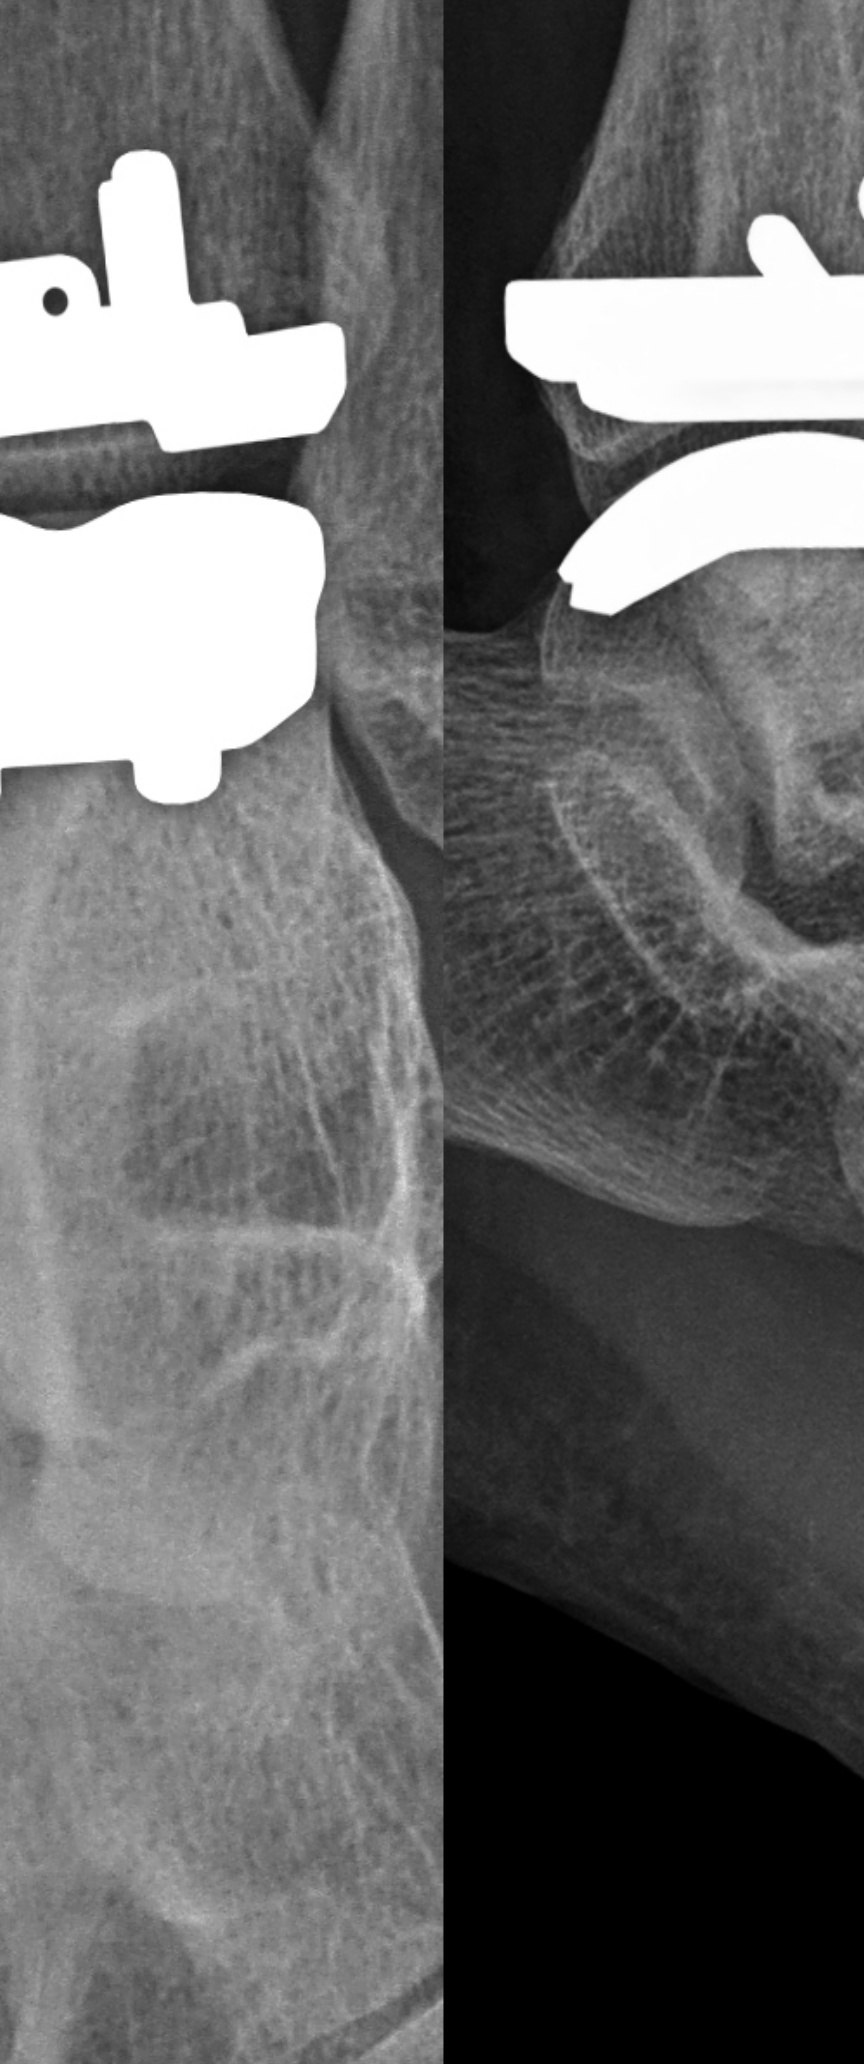Cadence-Integra: (4, 113, 357, 864), (473, 187, 864, 641)
